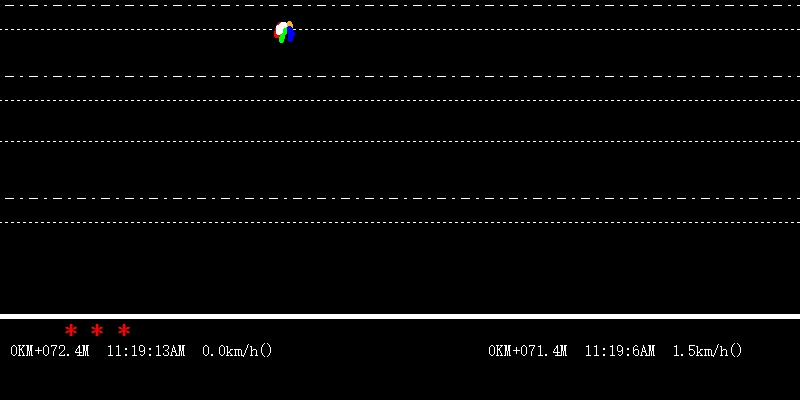face_2: (273, 18, 294, 44)
star: (62, 321, 78, 339), (89, 321, 103, 338), (117, 322, 130, 336)
